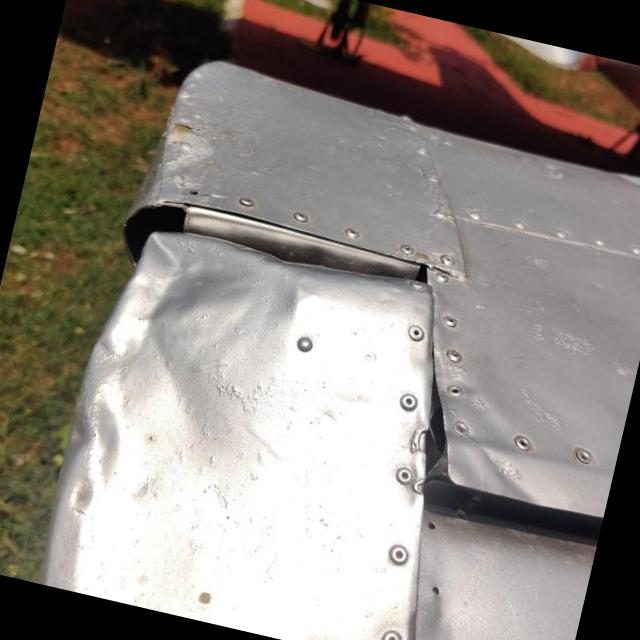Dent: (84, 233, 333, 428), (44, 343, 175, 599)
